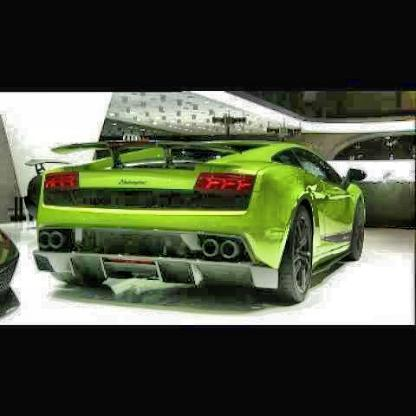Lamborghini Gallardo LP 570-4 Superleggera 2012: (33, 134, 371, 311)
